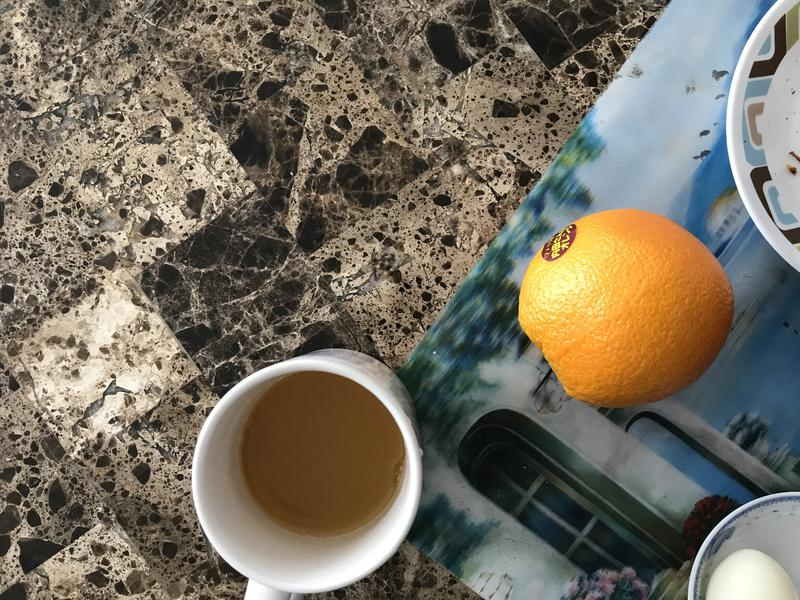orange: (510, 205, 742, 418)
